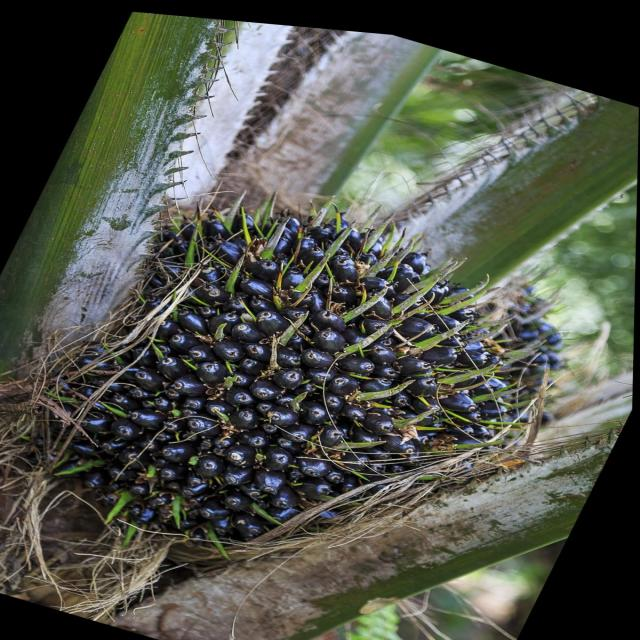Unripe: (0, 149, 579, 607)
